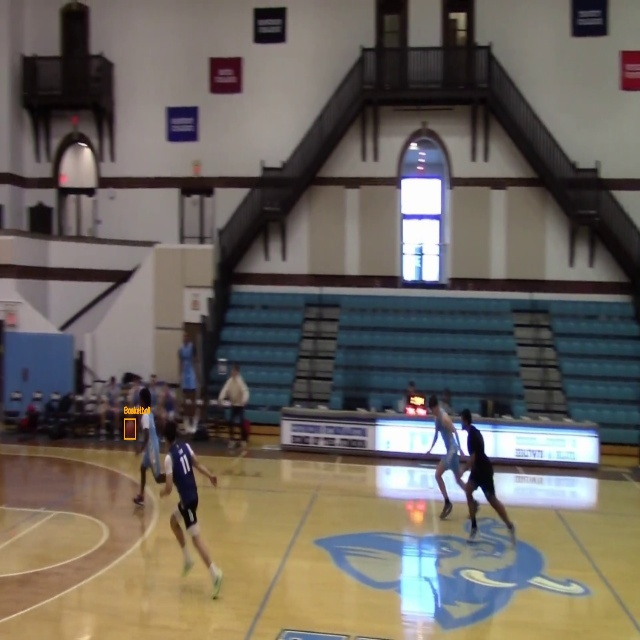Basketball: (124, 419, 136, 439)
